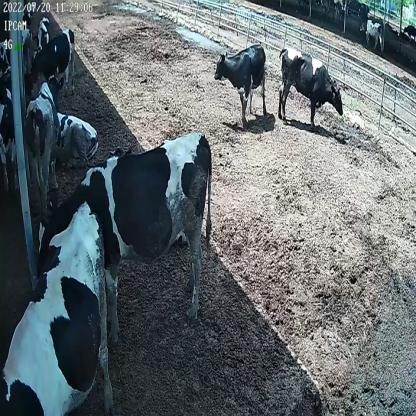cow: (36, 128, 214, 338), (277, 43, 345, 128), (214, 39, 268, 130), (24, 79, 59, 210), (31, 27, 78, 92), (34, 11, 51, 54)
